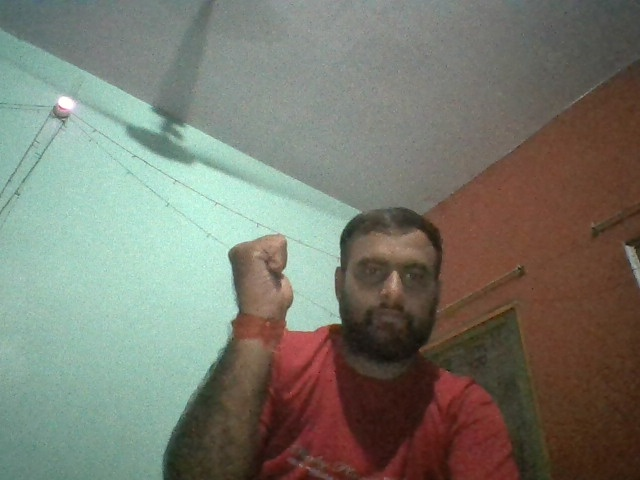goodbye: (227, 233, 296, 320)
